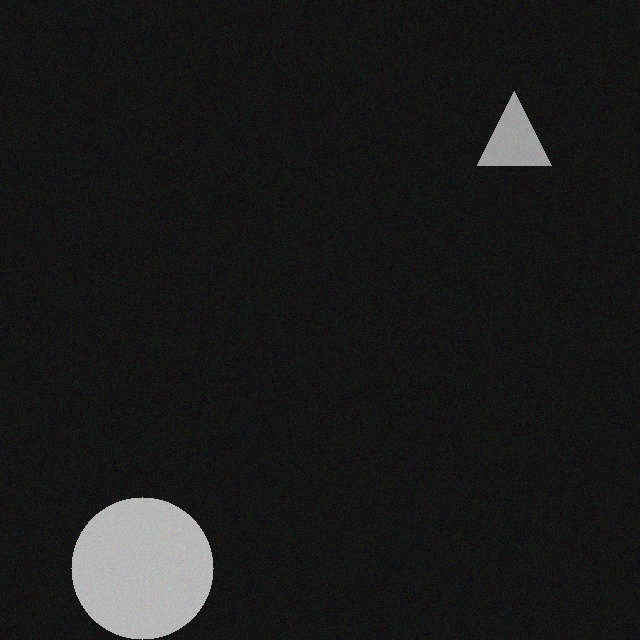circle: (59, 496, 201, 638)
triangle: (465, 90, 539, 164)
